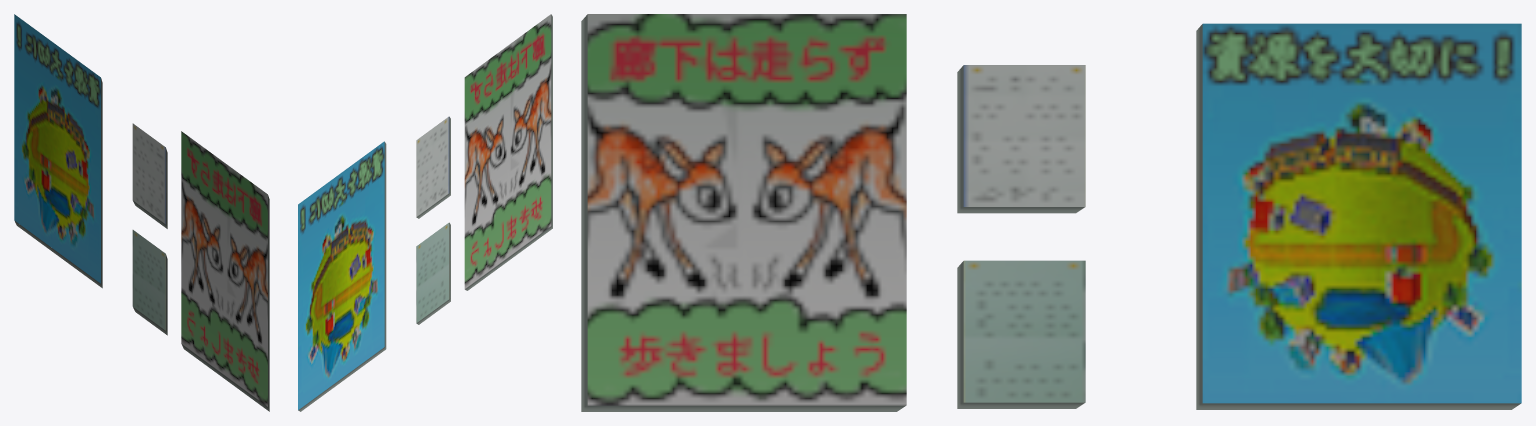
File: HW_infoA.FBX
3 views of the same model, side by side, from view 1: azimuth 30°, elevation 25°; view 2: azimuth 150°, elevation 25°; view 3: azimuth 270°, elevation 25° (orthographic). The views are drawn at different scales.
Parts seen in each view (by area): view 1: HW_infoA; view 2: HW_infoA; view 3: HW_infoA.
Part boxes in pixels (bbox=[...]): HW_infoA: bbox=[14, 14, 269, 411]; HW_infoA: bbox=[298, 14, 552, 411]; HW_infoA: bbox=[581, 14, 1521, 411].
Bounding box in the file's own units: 0.00146 × 92.97 × 199.
